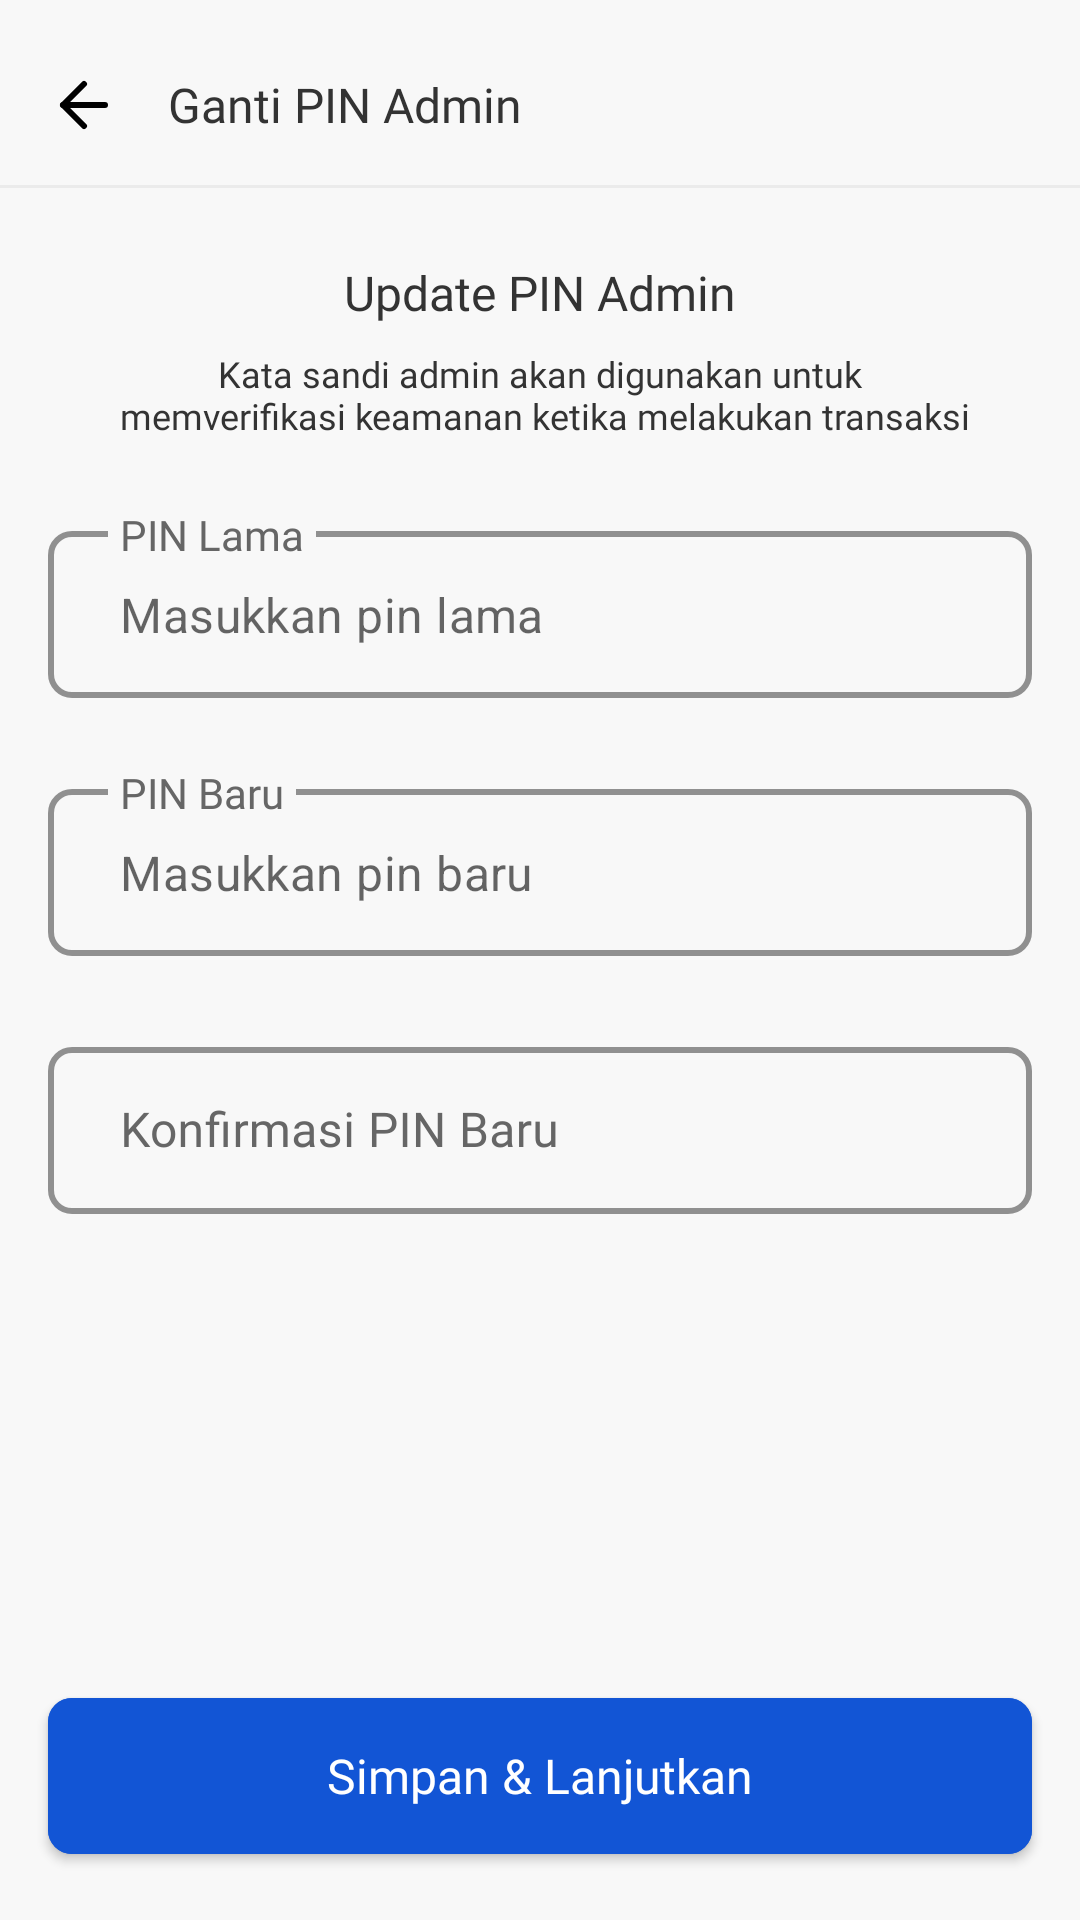

Where icons sit on this 1080px x 1920px app screen, as (x1, y1, x2, y2):
back: (60, 81, 108, 129)
